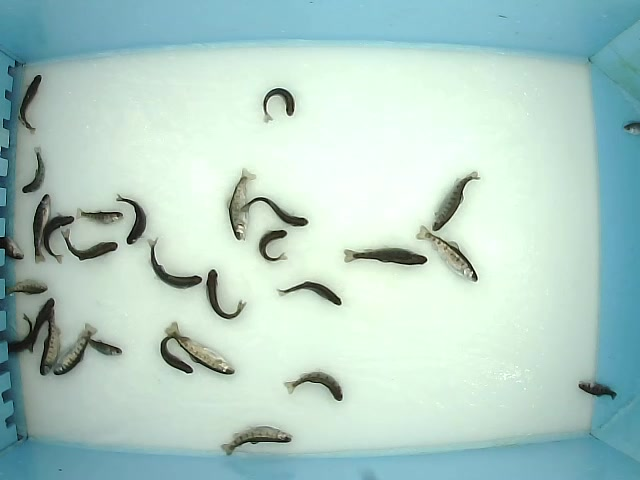fish: (163, 321, 237, 376), (415, 225, 478, 282), (431, 170, 483, 232), (147, 236, 203, 291), (53, 321, 98, 377), (226, 167, 258, 242), (218, 425, 293, 457), (205, 268, 248, 321), (240, 196, 309, 228), (61, 227, 118, 263), (282, 371, 343, 403), (114, 192, 148, 246), (275, 280, 343, 307), (343, 246, 429, 266), (44, 211, 75, 265), (26, 297, 55, 353), (159, 335, 195, 375), (19, 74, 42, 135), (32, 193, 51, 266), (39, 304, 58, 377), (21, 145, 48, 194), (262, 87, 296, 124), (257, 229, 290, 265), (82, 331, 124, 358), (75, 206, 125, 226), (576, 379, 618, 401), (3, 280, 49, 296)
